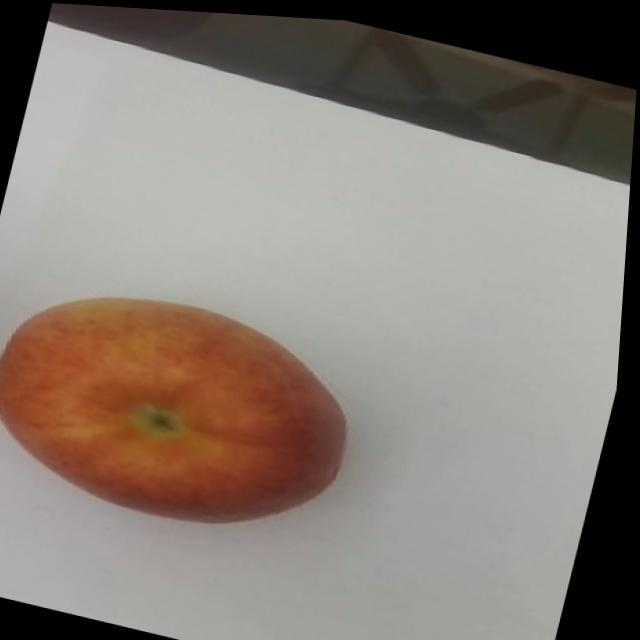Apple: (0, 263, 378, 553)
